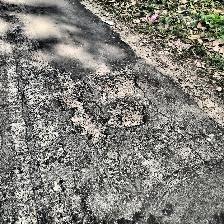pothole: (54, 70, 152, 144)
